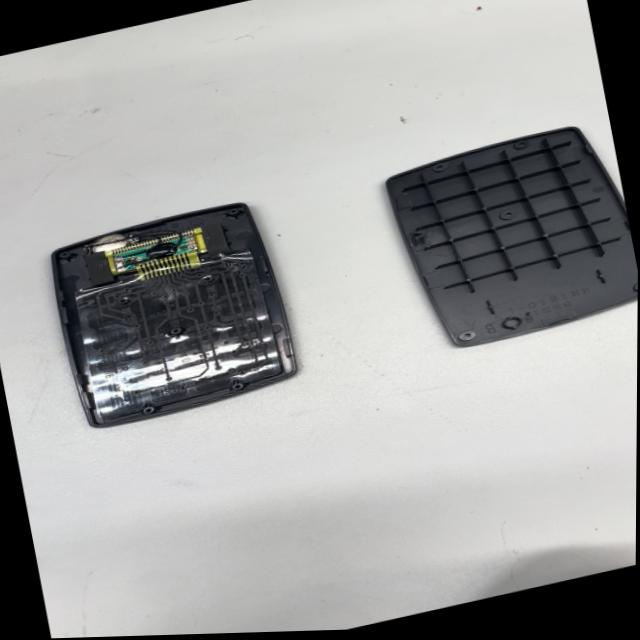back_cover: (369, 114, 639, 365)
front_panel: (42, 189, 305, 438)
